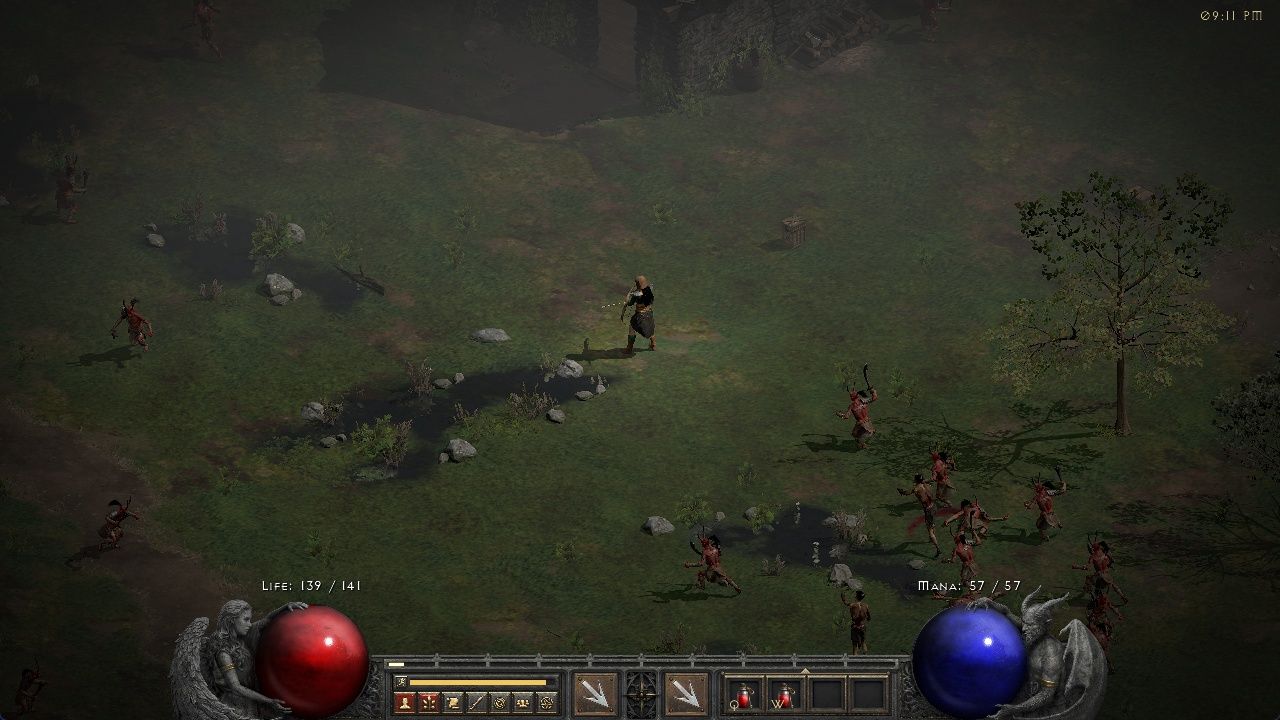fallen: (685, 524, 741, 594), (835, 363, 881, 445), (51, 155, 98, 224), (1026, 464, 1076, 526), (109, 294, 156, 352), (185, 1, 229, 61), (1075, 534, 1127, 581), (96, 494, 142, 546), (922, 445, 963, 496), (11, 661, 49, 711), (948, 530, 985, 581), (1083, 589, 1119, 616)
